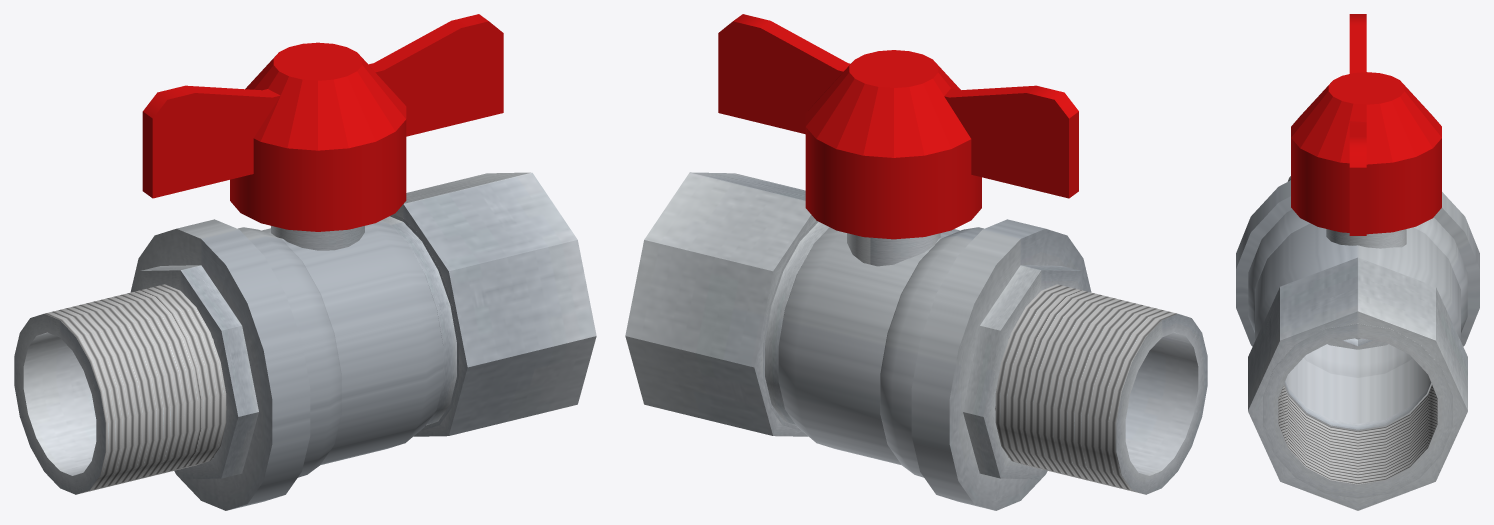
File: kran2.FBX
3 views of the same model, side by side, from view 1: azimuth 30°, elevation 25°; view 2: azimuth 150°, elevation 25°; view 3: azimuth 270°, elevation 25° (orthographic). The views are drawn at different scales.
Parts seen in each view (by area): view 1: kran_nr_vn_1/2; view 2: kran_nr_vn_1/2; view 3: kran_nr_vn_1/2.
Boxes of the visible parts, bbox=[...] form: kran_nr_vn_1/2: bbox=[14, 14, 596, 510]; kran_nr_vn_1/2: bbox=[625, 14, 1207, 510]; kran_nr_vn_1/2: bbox=[1236, 14, 1479, 510].
Size of the model in its own units: 0.063 by 0.0527 by 0.0328.
3 materials, 2 textured.
